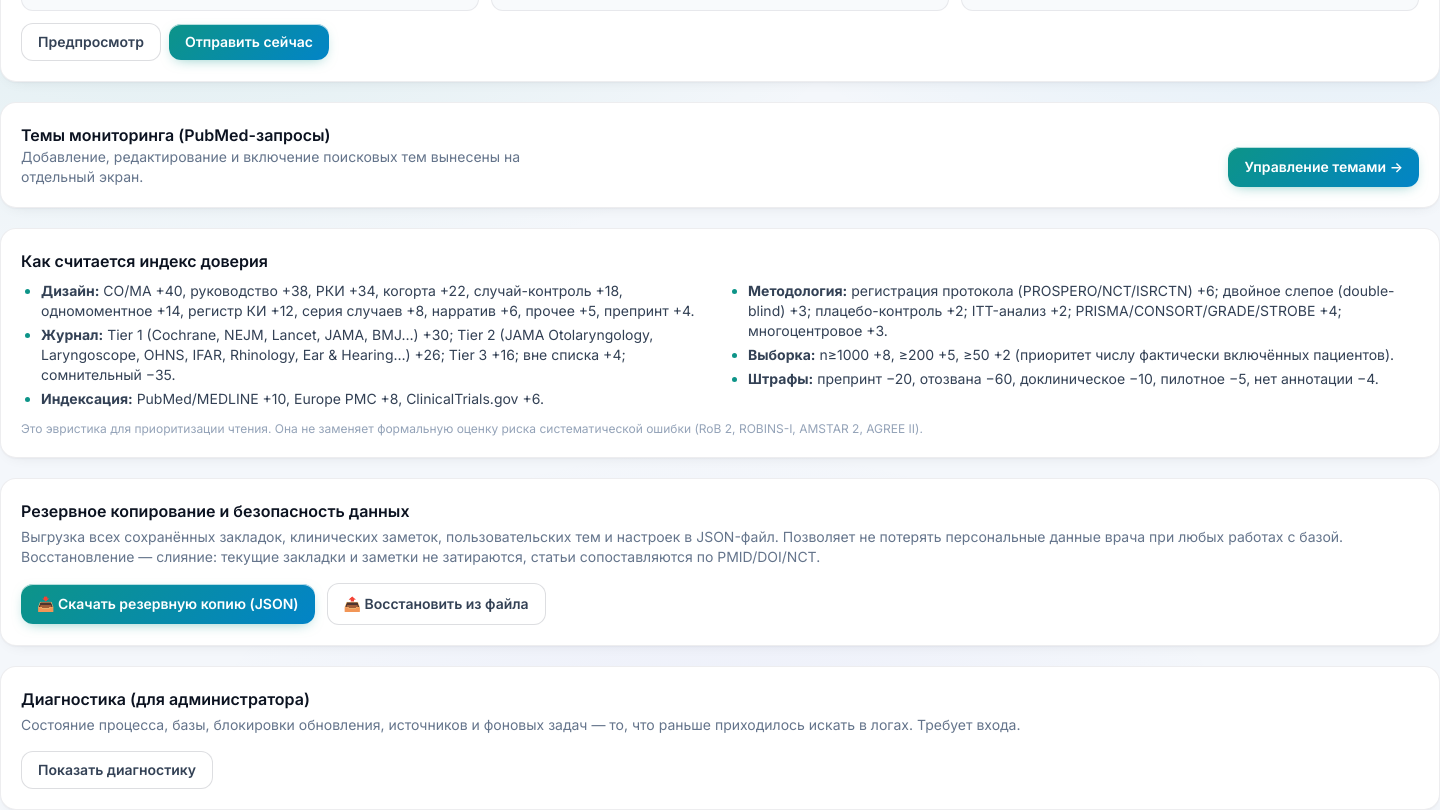
it: <SettingsPanel /> › диагностика недоступна без входа — сообщение с текстом ошибки сервера
(page scrolled)
Click the button "Показать диагностику" at (117, 770), box [21,750,213,788]
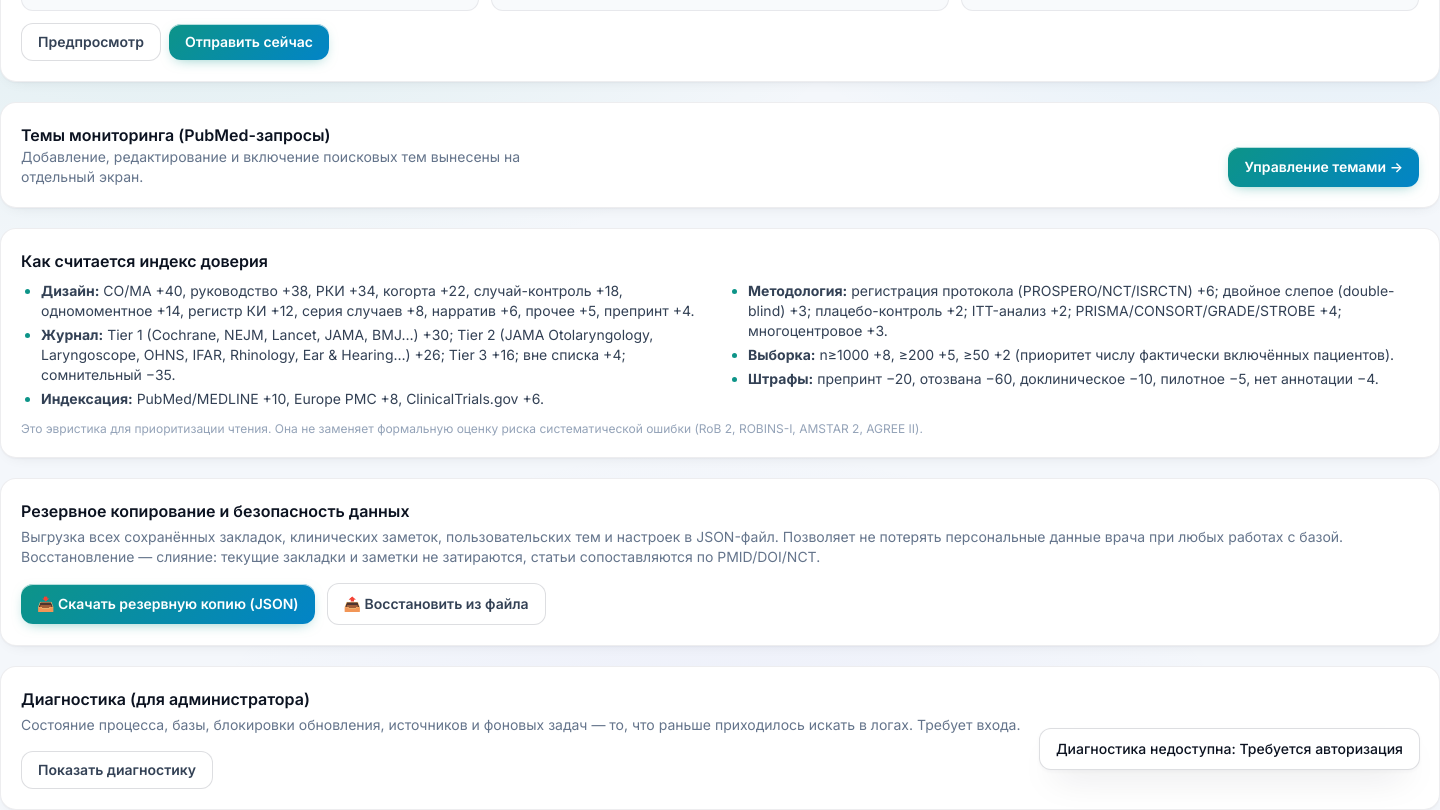
Check: the text "Диагностика недоступна: Требуется авторизация" is shown, box [1039,728,1420,770]
